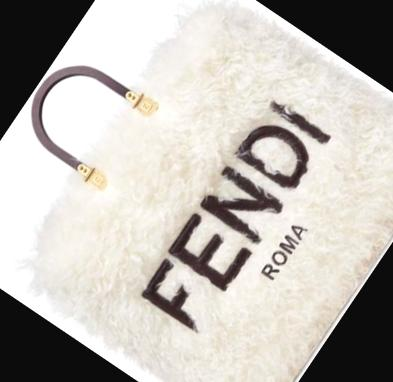FENDI: (140, 96, 334, 335)
